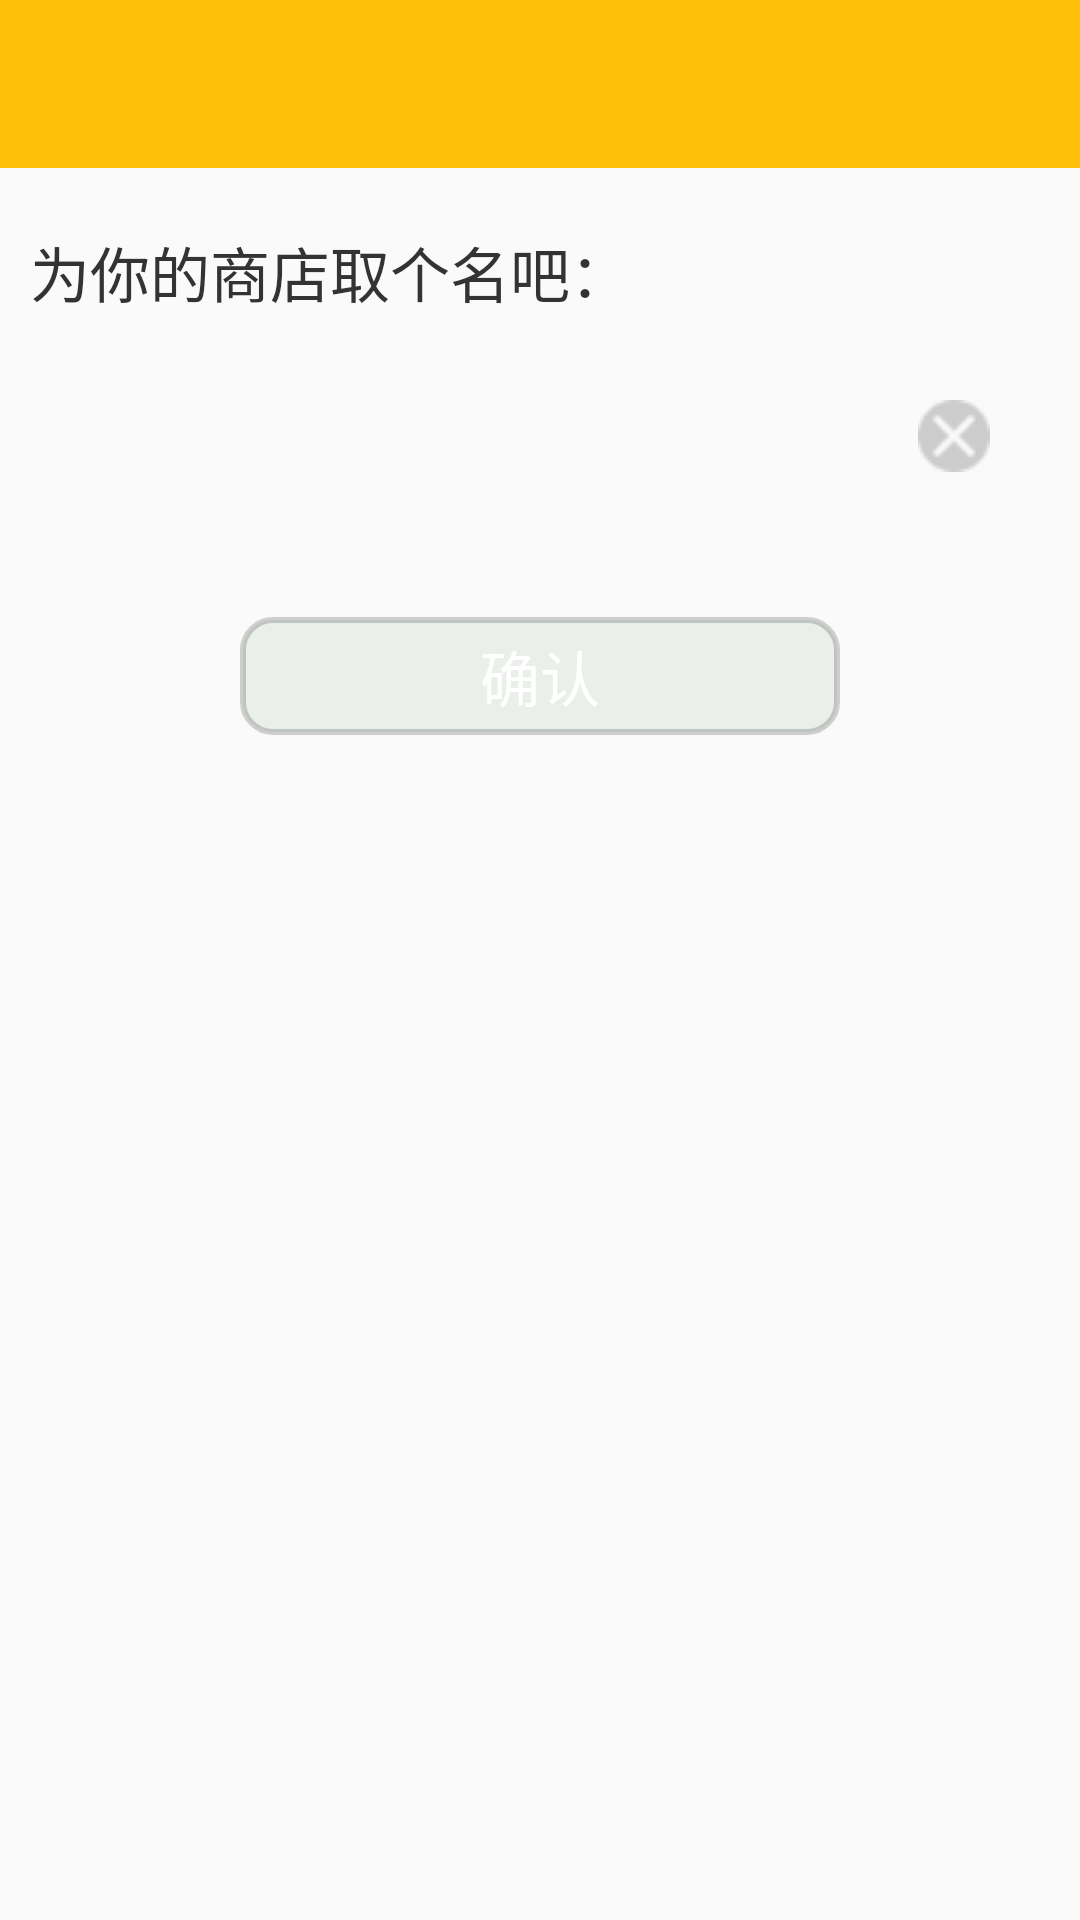

Locate icon controls on the screen. Image size 1080w x 1920h, boxes as detection(x1, y1, x2, y2).
qingchu: detection(918, 400, 990, 472)
